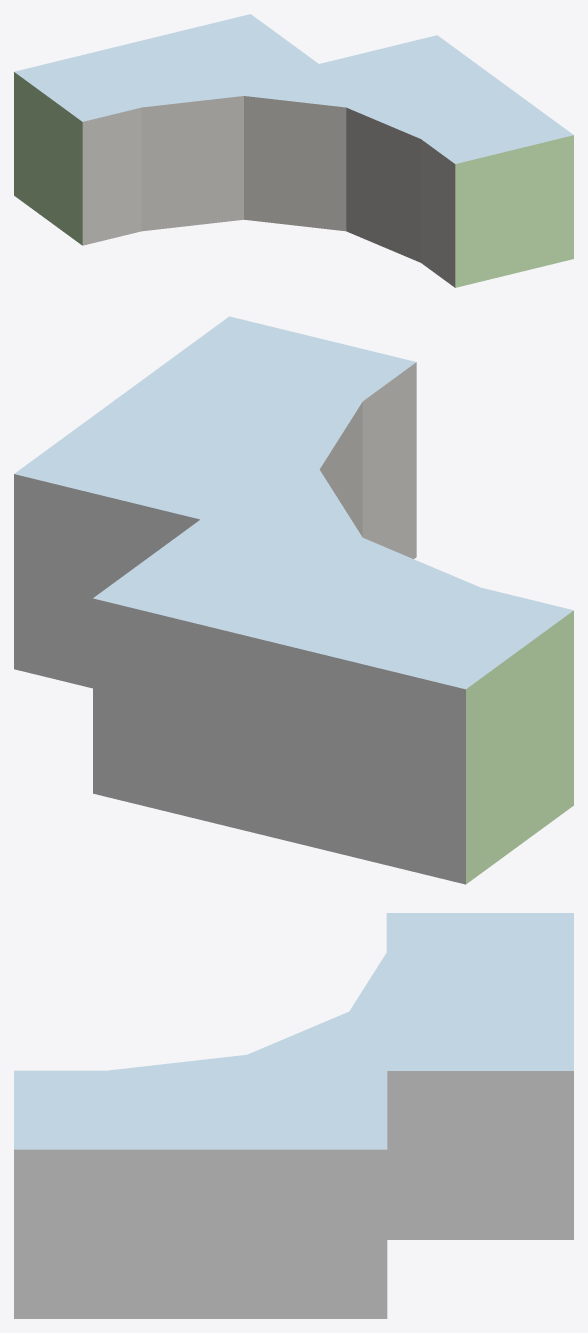
Rendered from Wall_Curve_Inner_3x3_Mid.fbx.
The picture shows the model from 3 angles, top to bottom: view 1: azimuth 30°, elevation 25°; view 2: azimuth 150°, elevation 25°; view 3: azimuth 270°, elevation 25°; orthographic projection. The views are drawn at different scales.
Parts seen in each view (by area): view 1: Wall_Curve_Inner_3x3_Mid; view 2: Wall_Curve_Inner_3x3_Mid; view 3: Wall_Curve_Inner_3x3_Mid.
Part boxes in pixels (box(x1,y1,x2,y2)): Wall_Curve_Inner_3x3_Mid: box(14, 14, 573, 287); Wall_Curve_Inner_3x3_Mid: box(14, 316, 573, 884); Wall_Curve_Inner_3x3_Mid: box(14, 913, 573, 1318).
Size of the model in its own units: 300 by 100 by 300.
